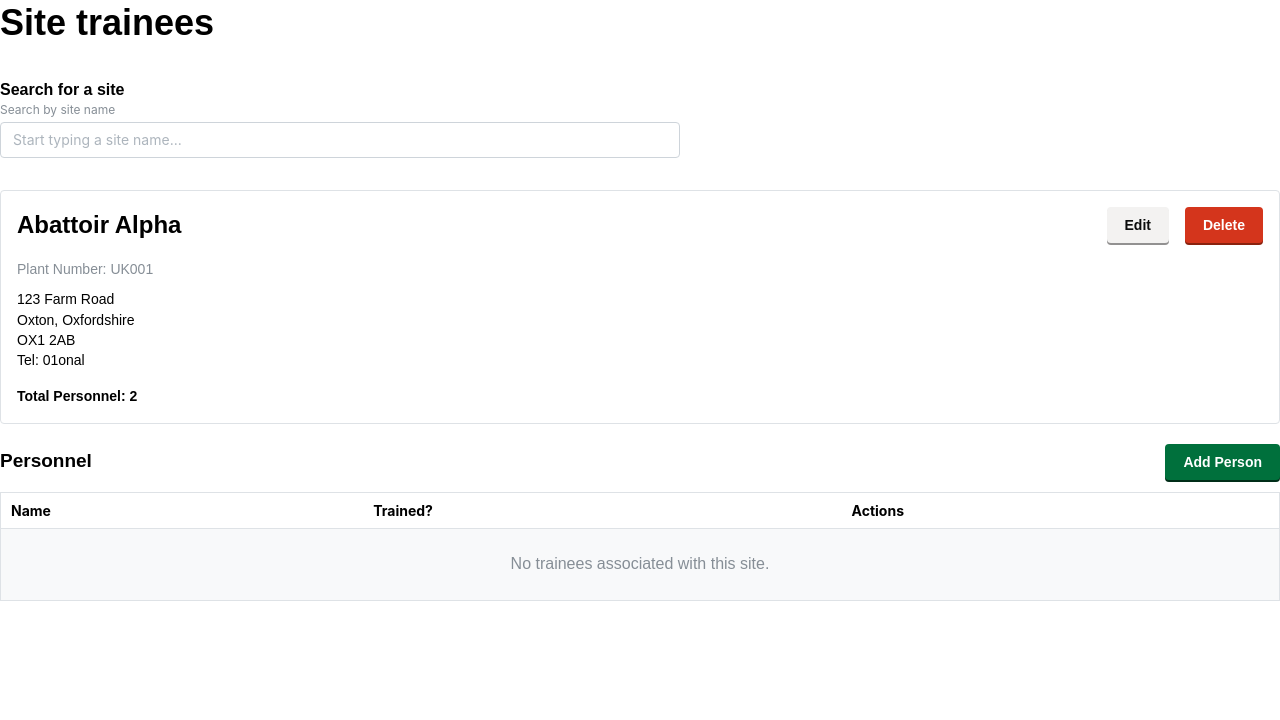
Test: SiteTraineesPage › displays error when deleting a site with personnel (BR-008)
The image size is (1280, 720).
Click the button with test id "delete-site-button" at (1224, 225), box [1185, 207, 1263, 243]
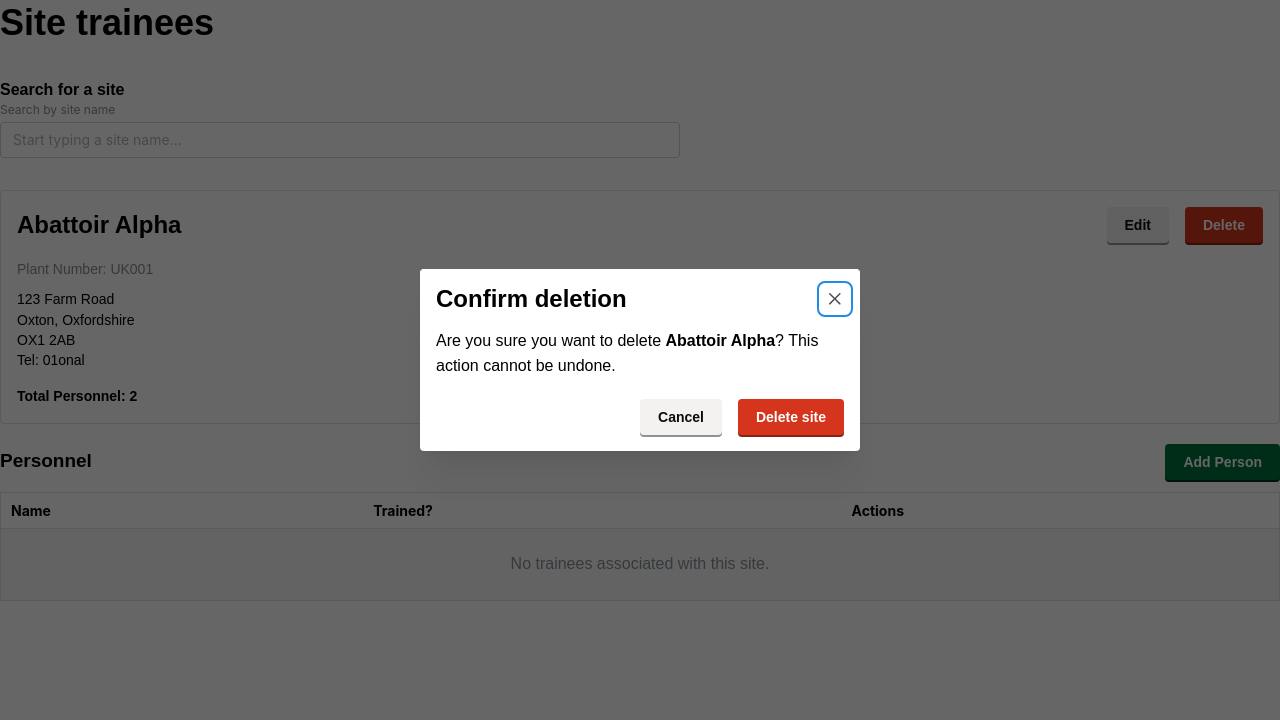
Expected: the button with test id "confirm-delete-button" is shown
Click the button with test id "confirm-delete-button" at (791, 417), box [738, 399, 844, 435]
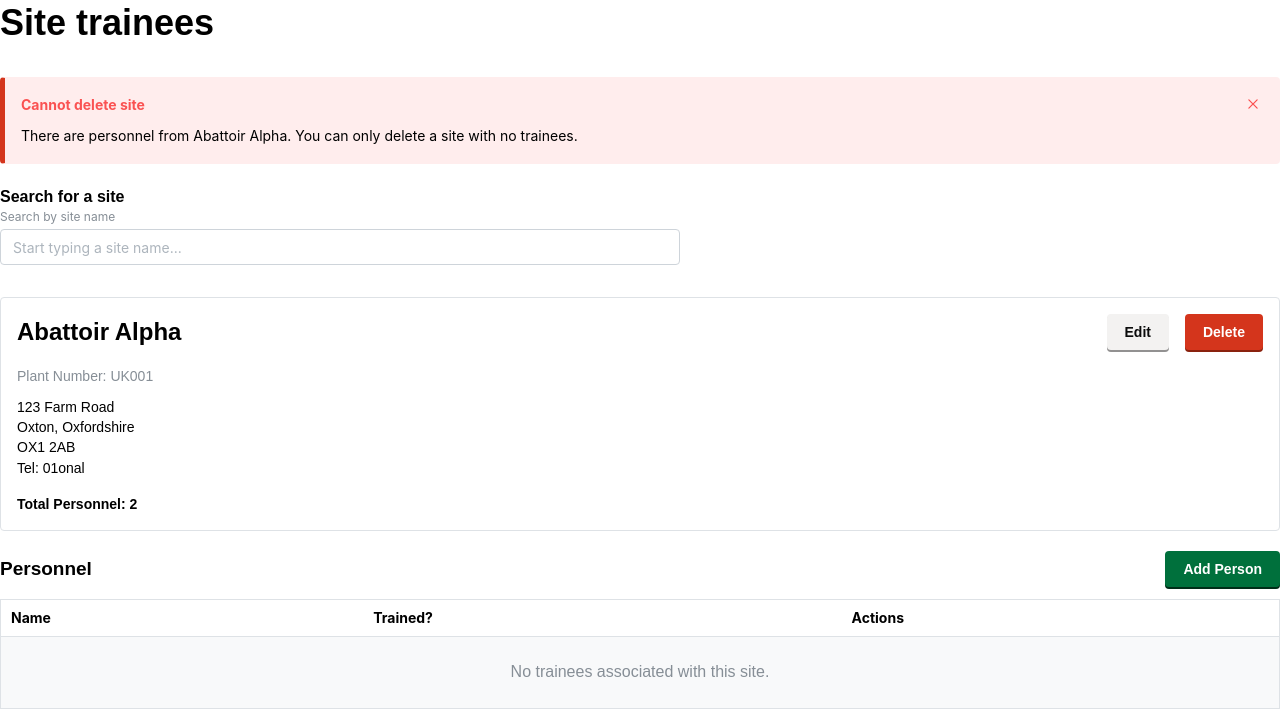
Expected: the message with test id "delete-error" is shown, [0, 77, 1279, 164]
Expected: the text "There are personnel from Abattoir Alpha" is shown, [21, 128, 578, 144]
